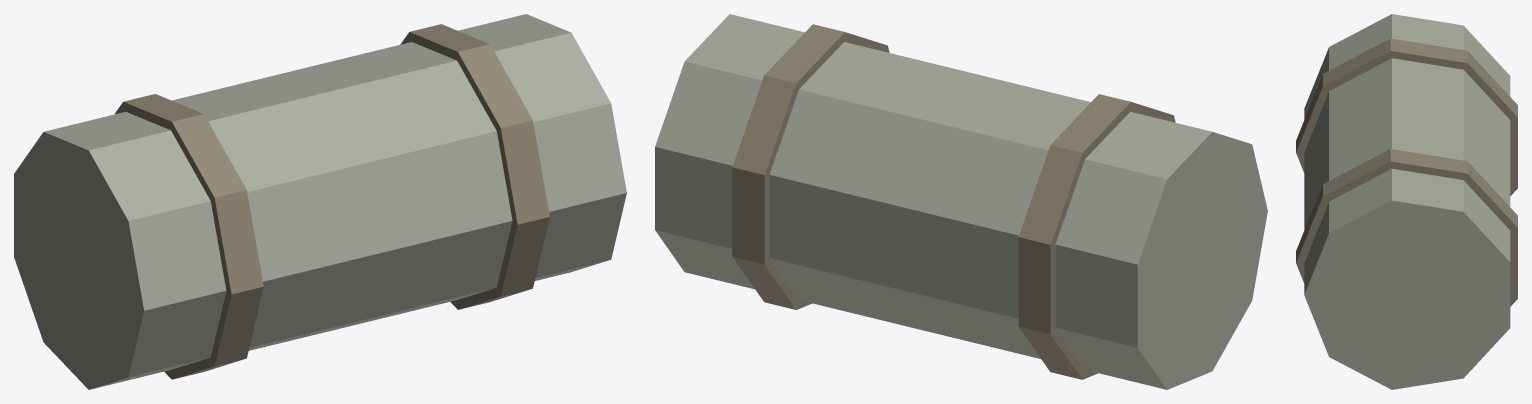
3 views of the same model, side by side, from view 1: azimuth 30°, elevation 25°; view 2: azimuth 150°, elevation 25°; view 3: azimuth 270°, elevation 25° (orthographic). The views are drawn at different scales.
Visible parts, largest first — view 1: P04; view 2: P04; view 3: P04.
Part boxes in pixels (bbox=[...]): P04: bbox=[14, 14, 626, 389]; P04: bbox=[655, 14, 1267, 389]; P04: bbox=[1296, 14, 1517, 389].
Bounding box in the file's own units: 0.54 × 0.2757 × 0.2716.
